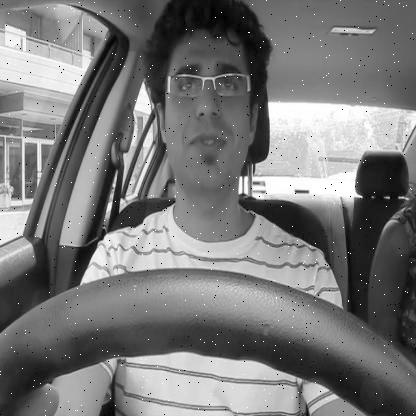no_seatbelt: (107, 0, 292, 416)
